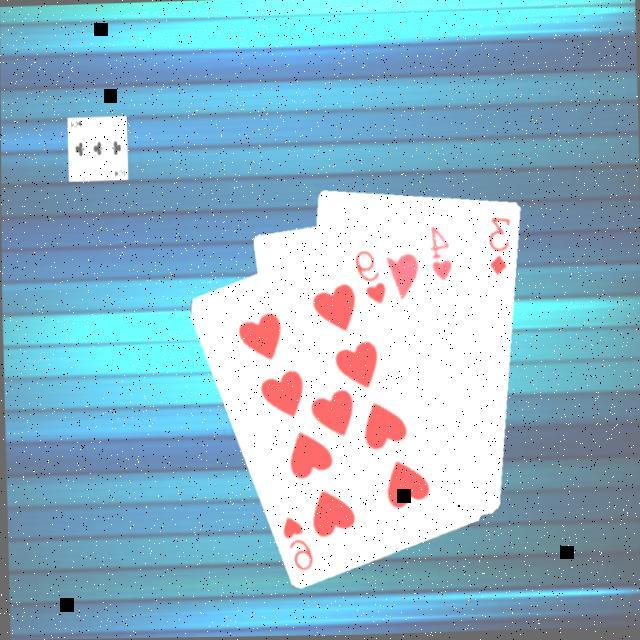3D: (484, 212, 513, 278)
4H: (425, 221, 454, 283)
9H: (350, 243, 388, 306), (277, 510, 314, 572)
